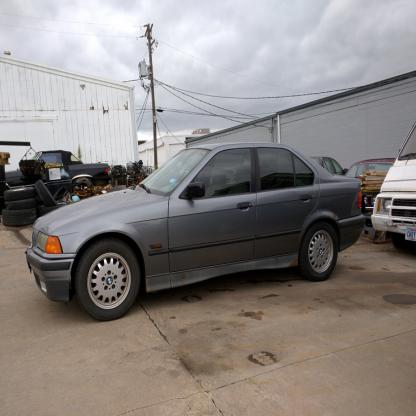Car: (24, 144, 367, 320), (372, 124, 415, 251), (7, 151, 111, 200), (345, 158, 397, 236), (308, 156, 345, 177)
